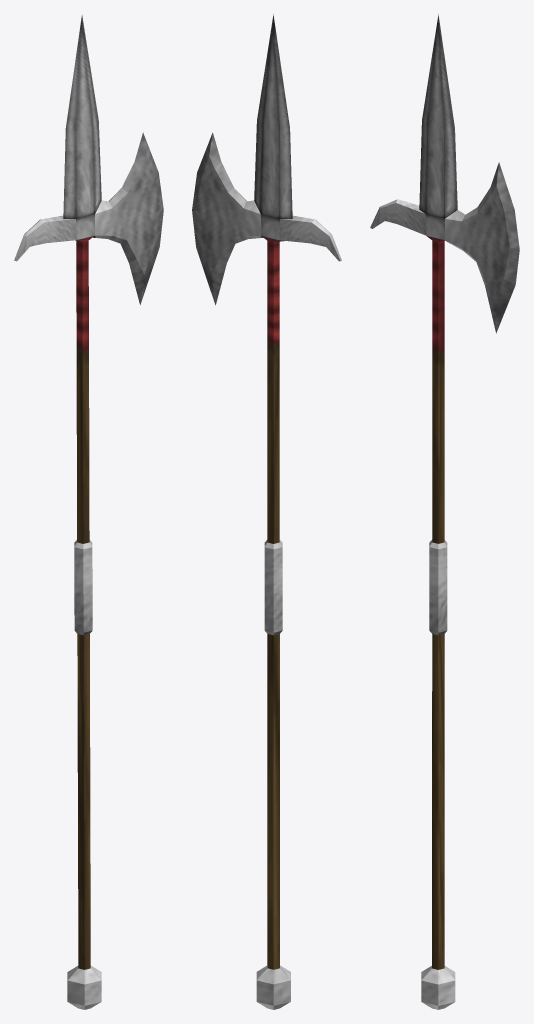
Rendered from militiaPolearm.fbx.
The picture shows the model from 3 angles, left to right: view 1: azimuth 30°, elevation 25°; view 2: azimuth 150°, elevation 25°; view 3: azimuth 330°, elevation 25°; orthographic projection.
Parts seen in each view (by area): view 1: PrepHumanPolearm; view 2: PrepHumanPolearm; view 3: PrepHumanPolearm.
Part boxes in pixels (box(x1,y1,x2,y2)): PrepHumanPolearm: box(14, 15, 163, 1009); PrepHumanPolearm: box(192, 14, 341, 1009); PrepHumanPolearm: box(370, 14, 519, 1009).
Size of the model in its own units: 1.93 by 12.23 by 0.3827.
